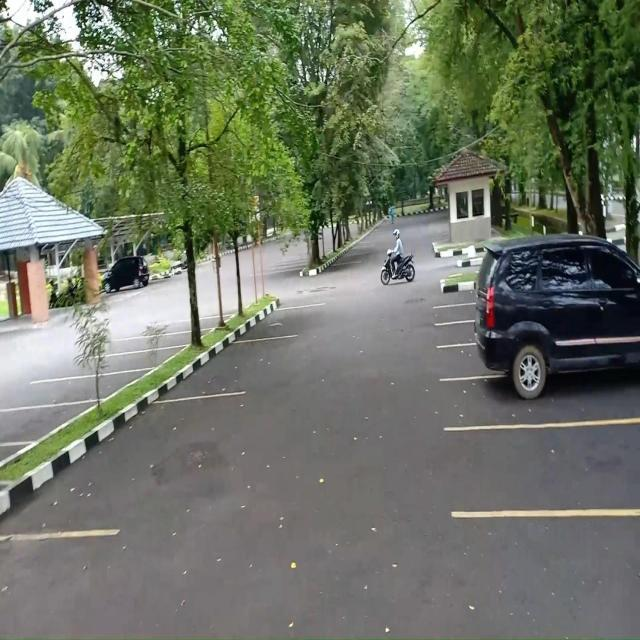Car: (473, 320, 640, 428)
Vacant: (106, 394, 230, 536), (467, 424, 640, 519), (216, 337, 294, 400), (0, 400, 86, 448), (52, 370, 126, 404), (250, 304, 309, 340), (109, 348, 174, 373), (144, 332, 192, 349)
